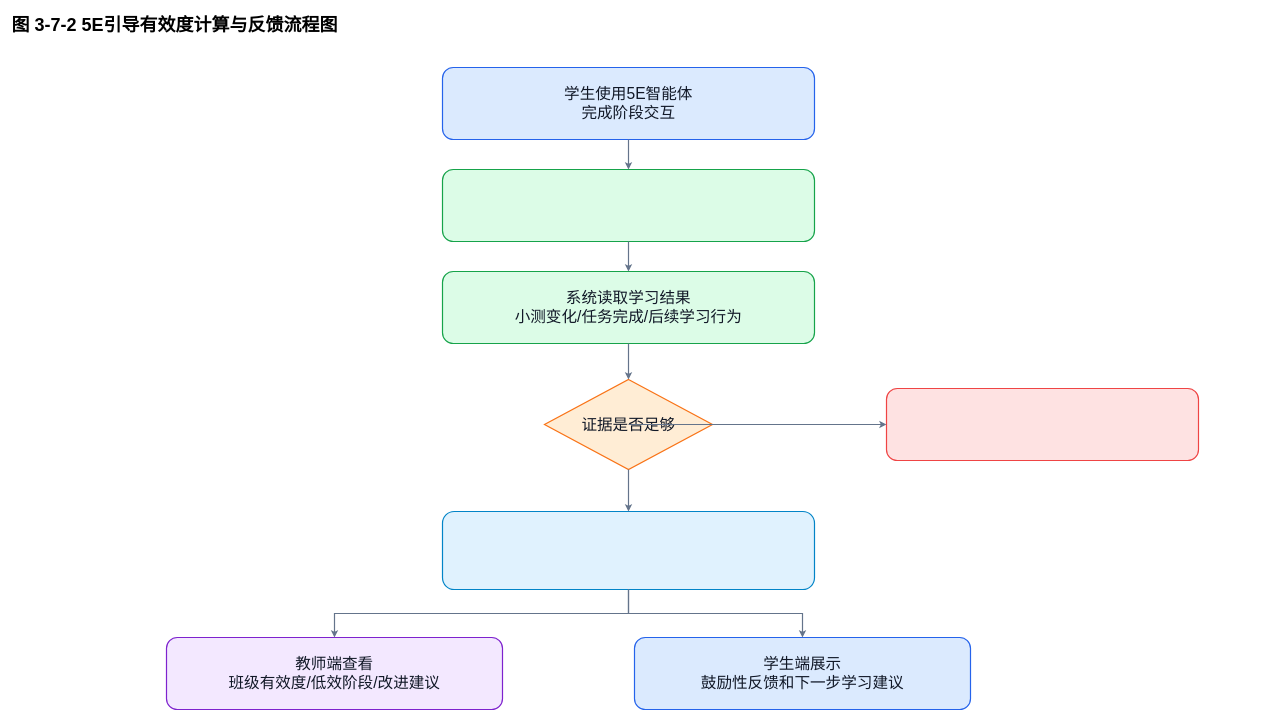
Image size: 1268x720. Some labels were removed from this diagram. The shapes that lost their labels are listed below. From the top down, each one's centre as x and y in pixels, then its label:
At (628,205): "系统记录过程数据 阶段完成/有效互动/资源使用".
At (1042,424): "证据不足 只提示补充学习或测评".
At (628,550): "系统计算EES 阶段完成+互动质量+学习提升+后续转化".
